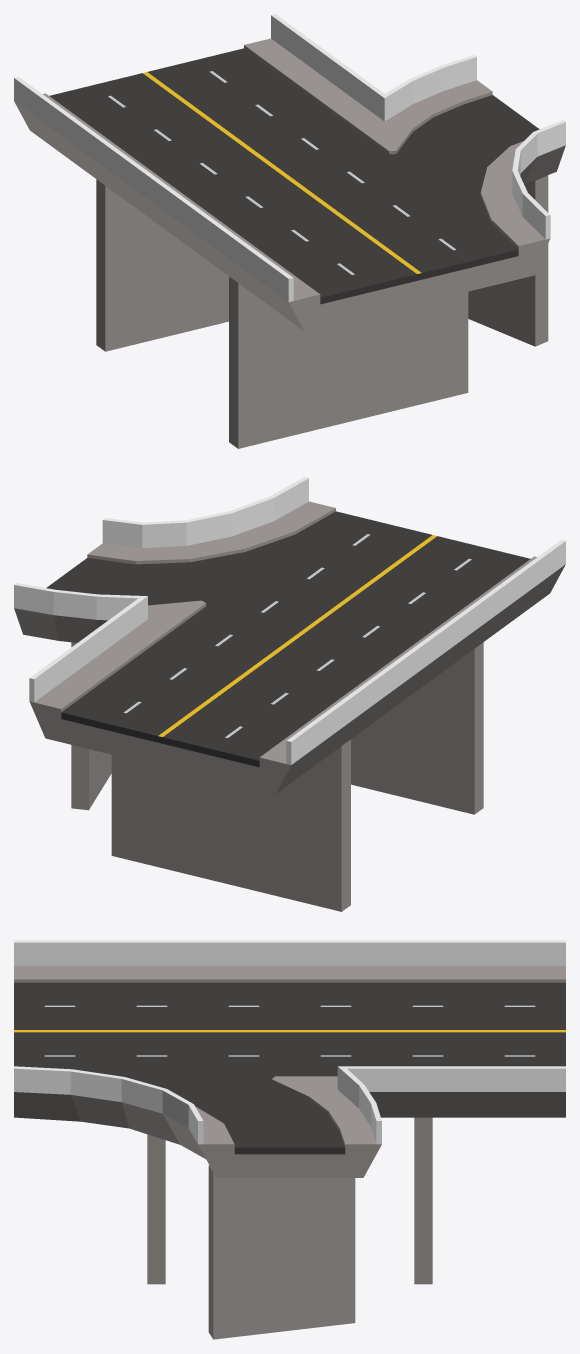
The model's file is bridge-mainroad-ramp.glb.
The picture shows the model from 3 angles, top to bottom: view 1: azimuth 30°, elevation 25°; view 2: azimuth 150°, elevation 25°; view 3: azimuth 270°, elevation 25°; orthographic projection.
Visible parts, largest first — view 1: bridge-mainroad-ramp; view 2: bridge-mainroad-ramp; view 3: bridge-mainroad-ramp.
Part boxes in pixels (left/top/right/bottom): bridge-mainroad-ramp: left=14, top=14, right=565, bottom=448; bridge-mainroad-ramp: left=14, top=477, right=565, bottom=911; bridge-mainroad-ramp: left=14, top=940, right=565, bottom=1339.
Size of the model in its own units: 23.25 by 13.4 by 30.
1 material, 1 textured.
